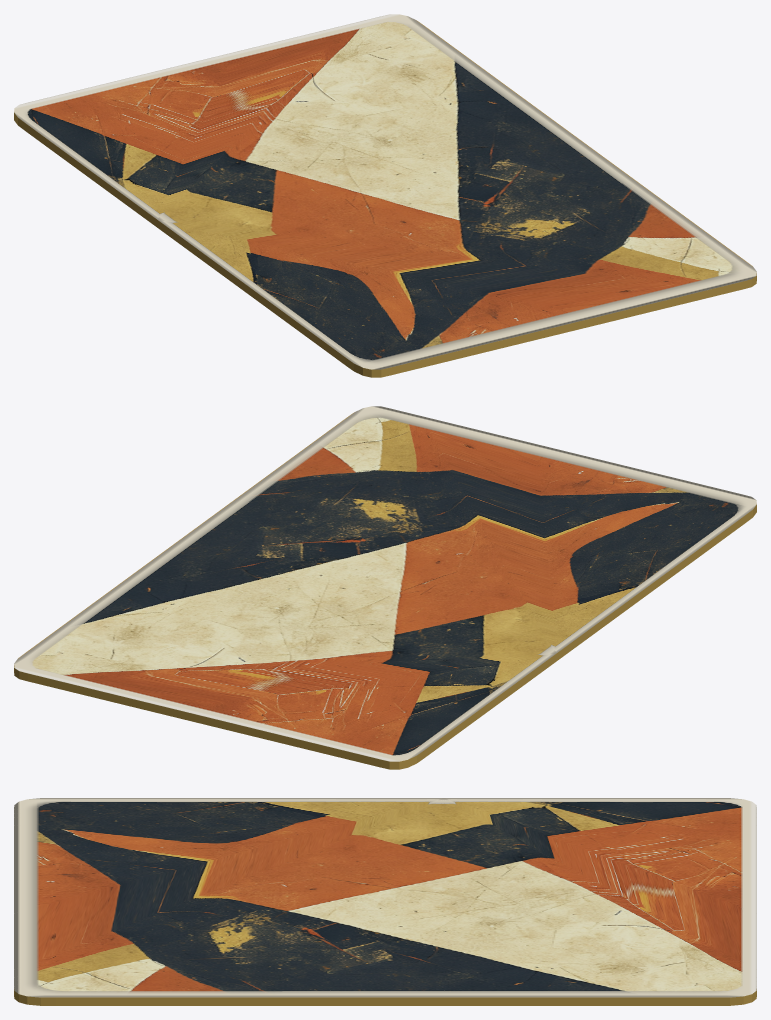
The model's file is FortuneCard.fbx.
The picture shows the model from 3 angles, top to bottom: view 1: azimuth 30°, elevation 25°; view 2: azimuth 150°, elevation 25°; view 3: azimuth 270°, elevation 25°; orthographic projection. The views are drawn at different scales.
Parts seen in each view (by area): view 1: DeathCard; view 2: DeathCard; view 3: DeathCard.
Part boxes in pixels (x1,y1,x2,y2): DeathCard: (14,14,756,377); DeathCard: (14,406,756,769); DeathCard: (14,798,756,1005).
Size of the model in its own units: 317 by 6.06 by 498.
Materials: 1 (1 with a texture image).
